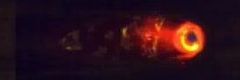keyhole: (183, 30, 200, 50)
